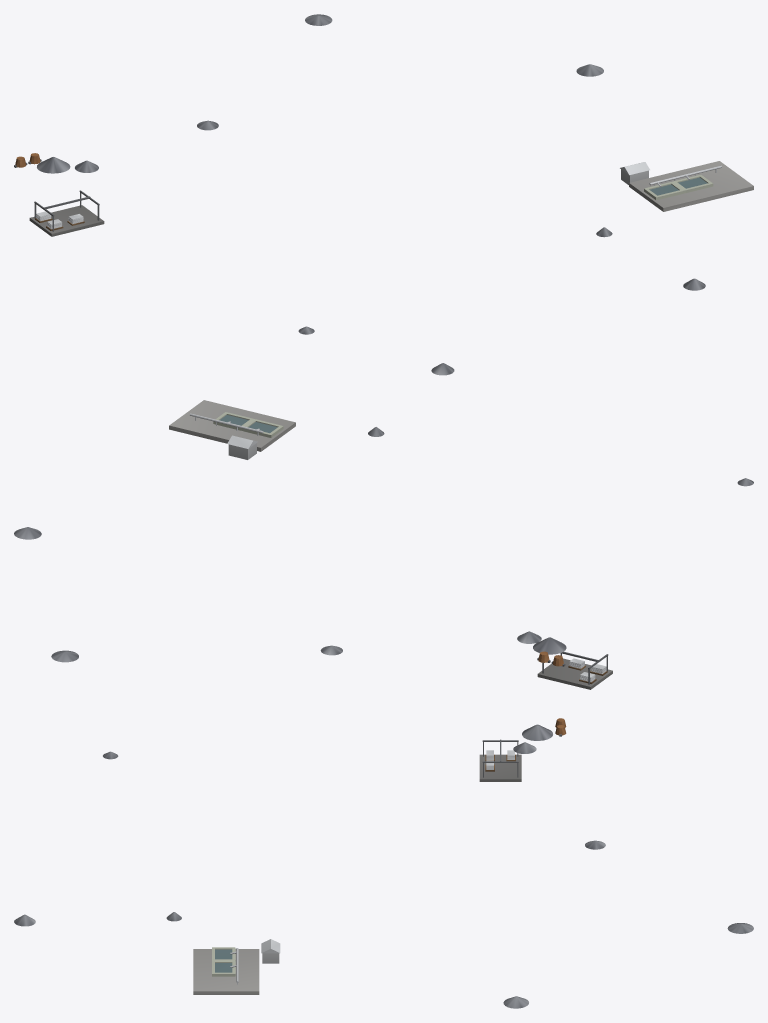
The model's file is Theme_P2.fbx.
3 views of the same model, one above another, from view 1: azimuth 30°, elevation 25°; view 2: azimuth 150°, elevation 25°; view 3: azimuth 270°, elevation 25° (orthographic). The views are drawn at different scales.
Visible parts, largest first — view 1: Theme.LeachPonds, Theme.CathodeYard; view 2: Theme.LeachPonds, Theme.CathodeYard, Theme.PumpHouse; view 3: Theme.LeachPonds, Theme.CathodeYard.
Part boxes in pixels (left/top/right/bottom): Theme.LeachPonds: left=629, top=161, right=753, bottom=211; Theme.CathodeYard: left=29, top=190, right=104, bottom=236; Theme.LeachPonds: left=169, top=400, right=295, bottom=451; Theme.CathodeYard: left=537, top=651, right=612, bottom=689; Theme.PumpHouse: left=227, top=435, right=257, bottom=459; Theme.LeachPonds: left=193, top=947, right=259, bottom=994; Theme.CathodeYard: left=479, top=739, right=521, bottom=781.
Size of the model in its own units: 23910 by 1987 by 28110.
